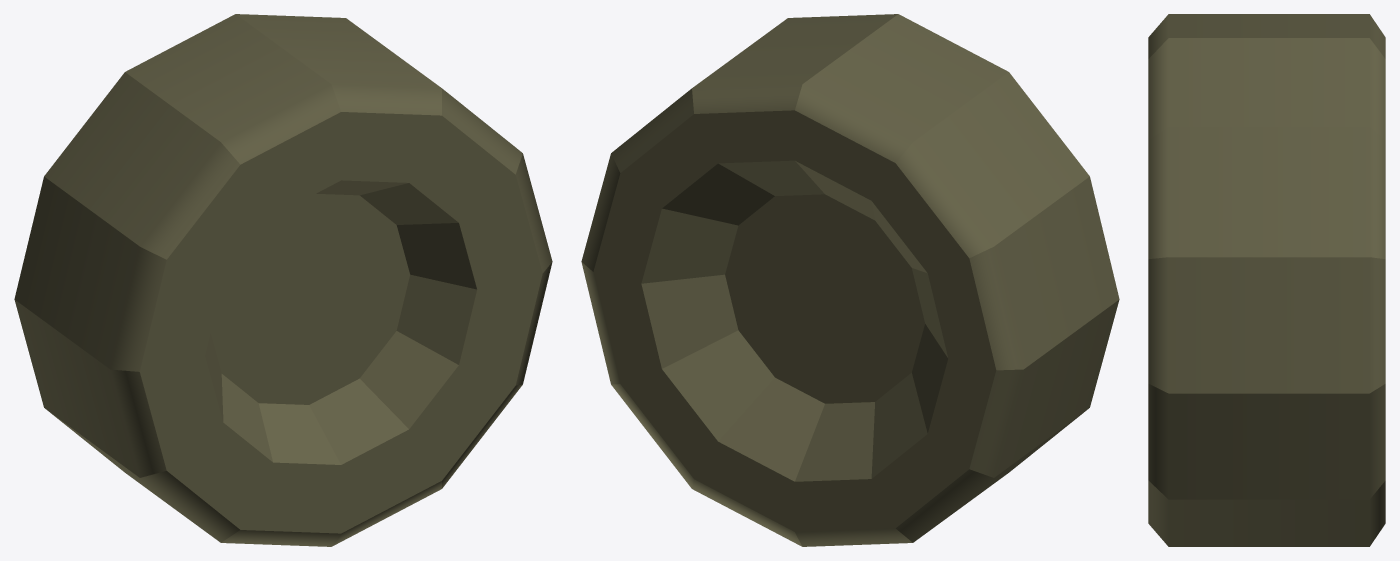
The model's file is Skate_Wheel_01.fbx.
The picture shows the model from 3 angles, left to right: view 1: azimuth 30°, elevation 25°; view 2: azimuth 150°, elevation 25°; view 3: azimuth 270°, elevation 25°; orthographic projection. The views are drawn at different scales.
Visible parts, largest first — view 1: Skate_Wheel_01; view 2: Skate_Wheel_01; view 3: Skate_Wheel_01.
Boxes of the visible parts, x1,y1,x2,y2 form: Skate_Wheel_01: (14,14,552,546); Skate_Wheel_01: (581,14,1119,546); Skate_Wheel_01: (1148,14,1385,546).
Bounding box in the file's own units: 50.17 × 50.17 × 22.28.
